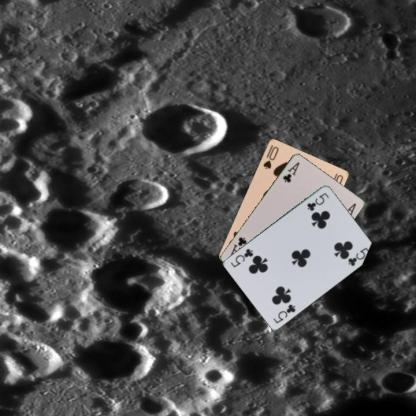10s: (260, 144, 280, 170)
5c: (270, 301, 297, 325), (304, 190, 330, 212)
Ac: (280, 159, 300, 184)
